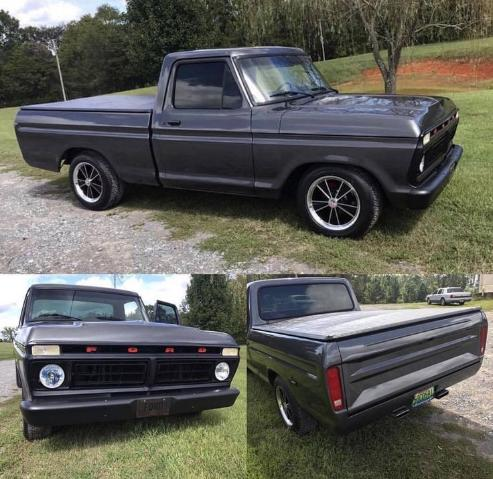pickup-truck: (9, 41, 455, 272), (246, 280, 487, 436), (11, 284, 241, 442)
